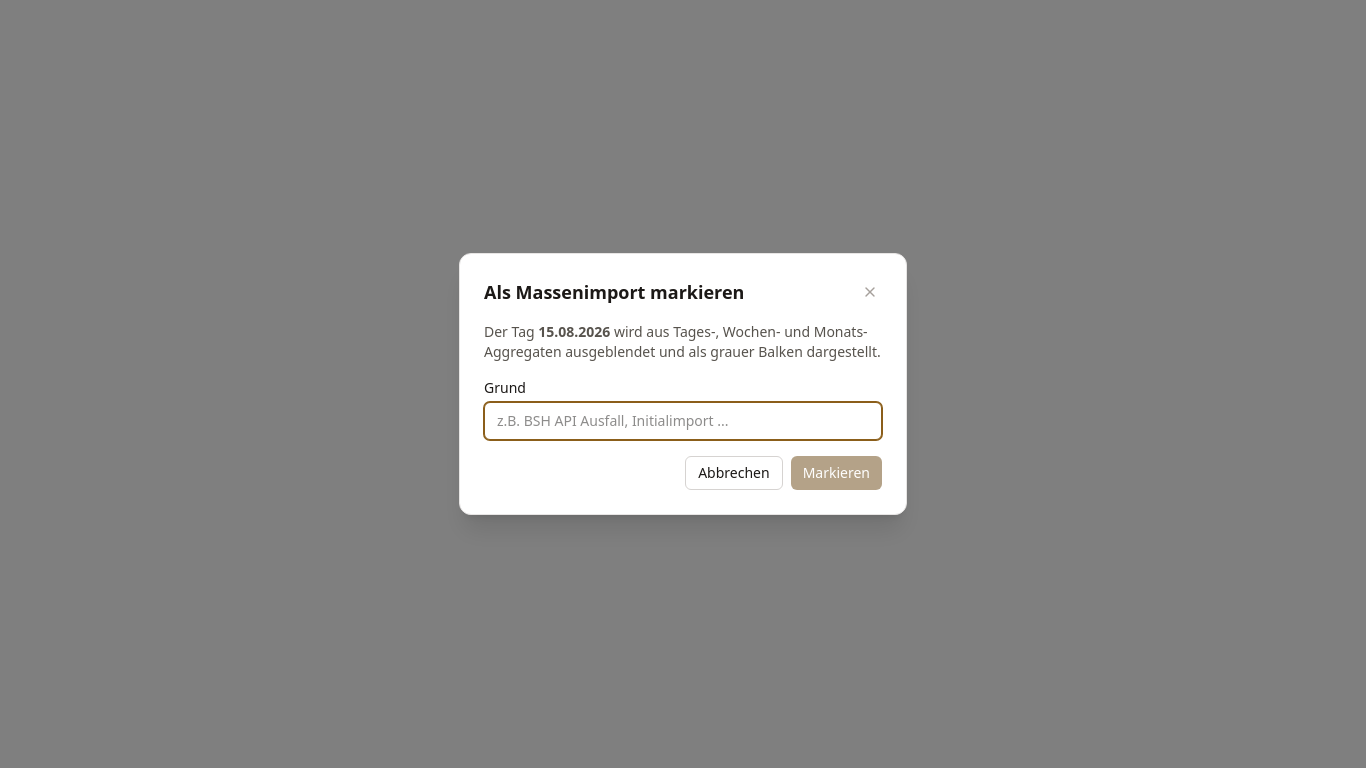
Test: MarkAsBackfillModal › shows the API error and stays open
Type "Doppelt" into the field labelled "Grund" at [683, 421], box [484,402,882,440]
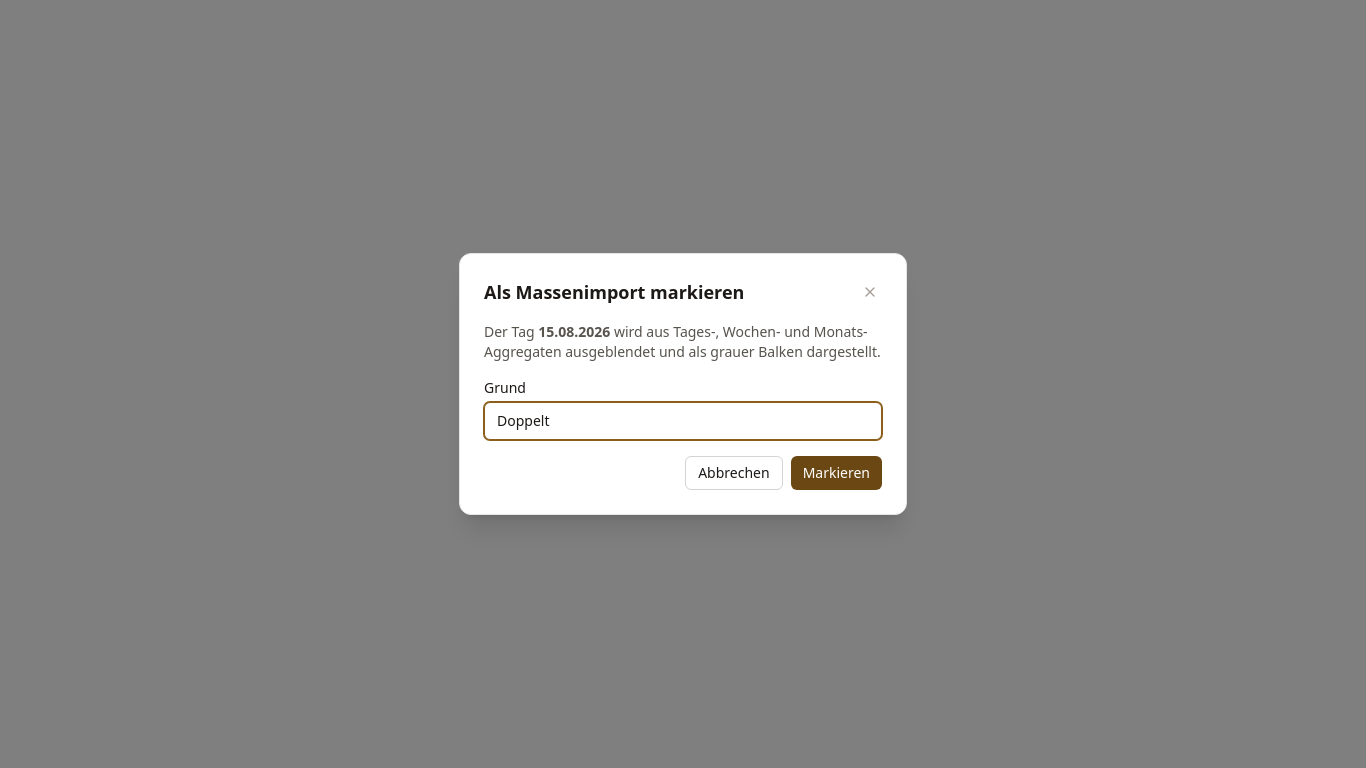
Click the button "Markieren" at [836, 473], box [791,456,882,490]
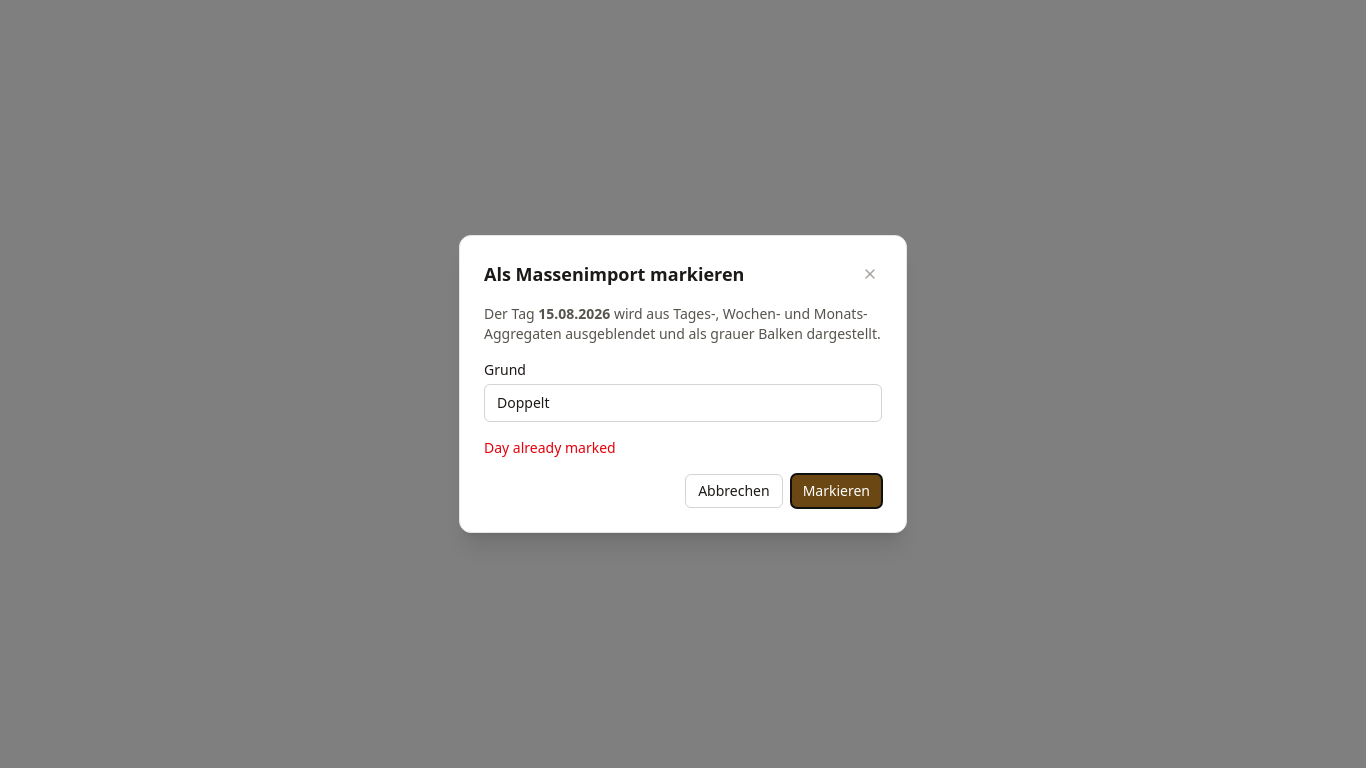
Check: the text "Day already marked" is shown, box [484,438,616,457]
